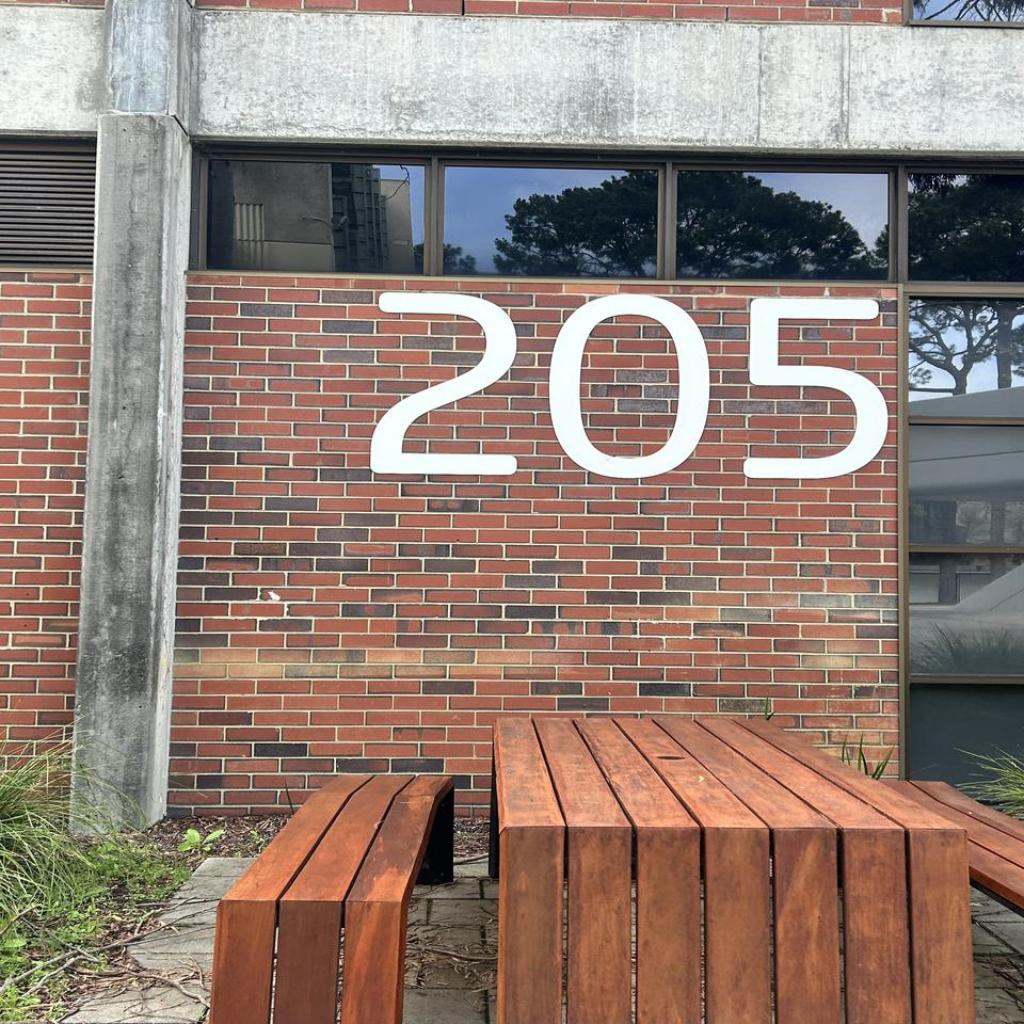BuildingCodes: (366, 288, 892, 482)
